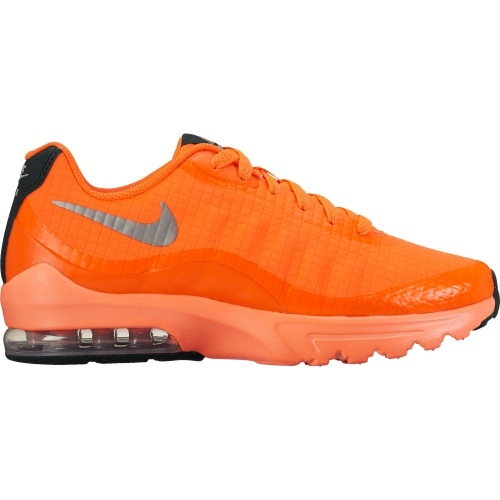nike: (41, 191, 200, 257)
